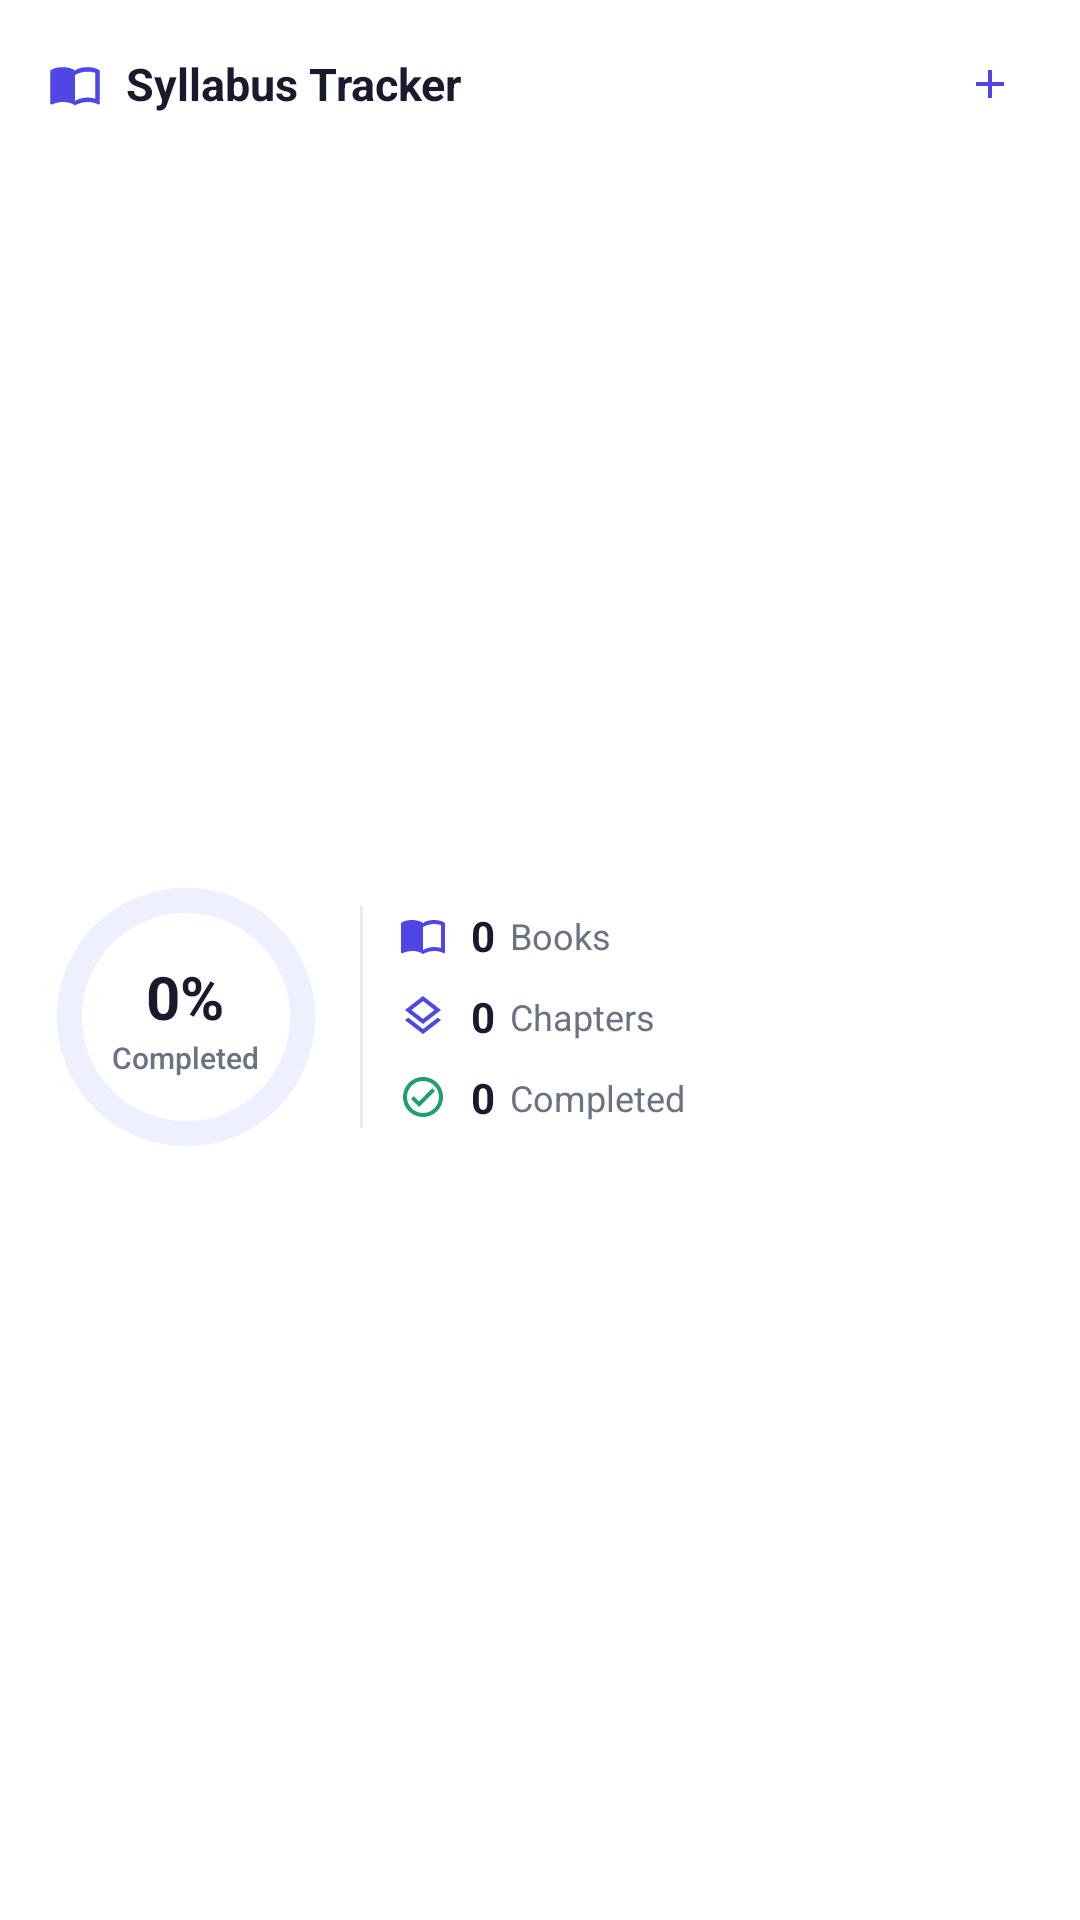

Icons on this 1080*1920 Android screen, each with its box as (x1, y1, x2, y2):
Add chapter: (976, 70, 1004, 98)
widget book: (50, 67, 100, 105)
